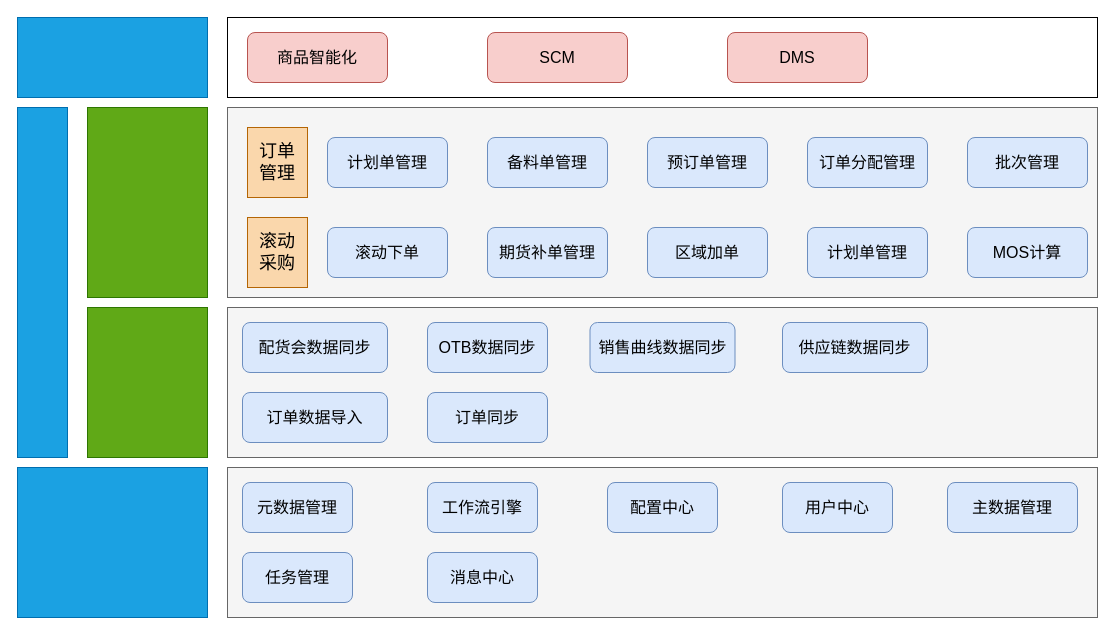
The diagram is 1115 pixels wide and 635 high, and some of its shapes have lost their labels. Here are the shapes that lost their labels. From the top down, the centre of each, then its label:
At (x=112, y=57): "数据集成".
At (x=147, y=202): "订单中心".
At (x=42, y=282): "F O M S".
At (x=147, y=382): "数据中心".
At (x=112, y=542): "LEAP".
